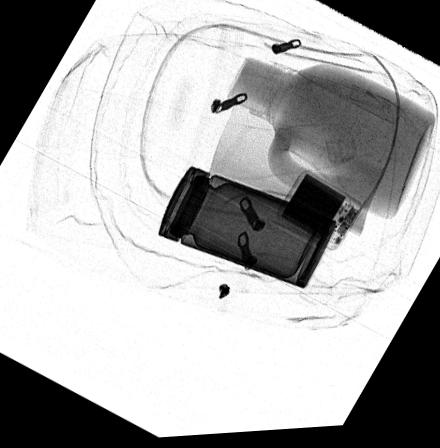Powerbank: (275, 173, 362, 254)
